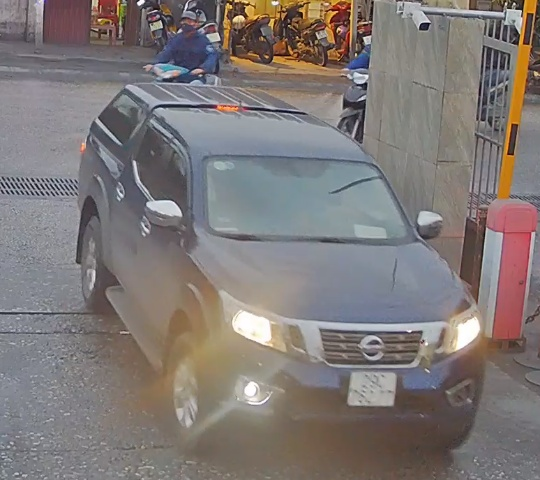vehicle plate: (345, 364, 404, 412)
